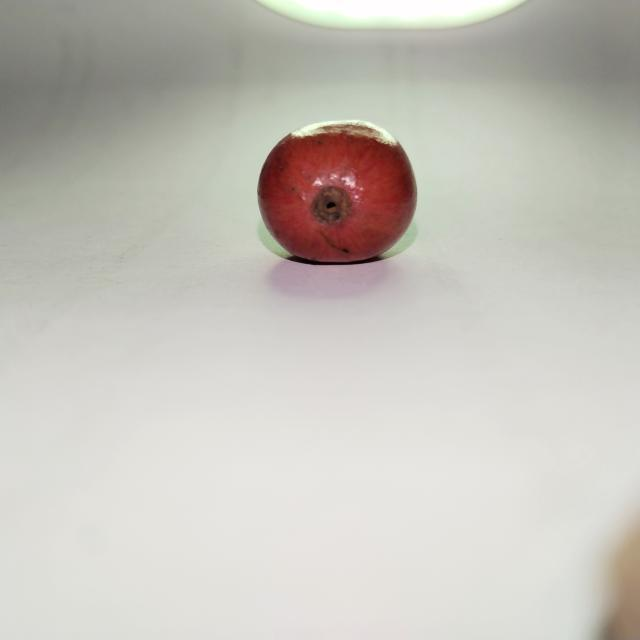Infectado: (257, 120, 418, 263)
